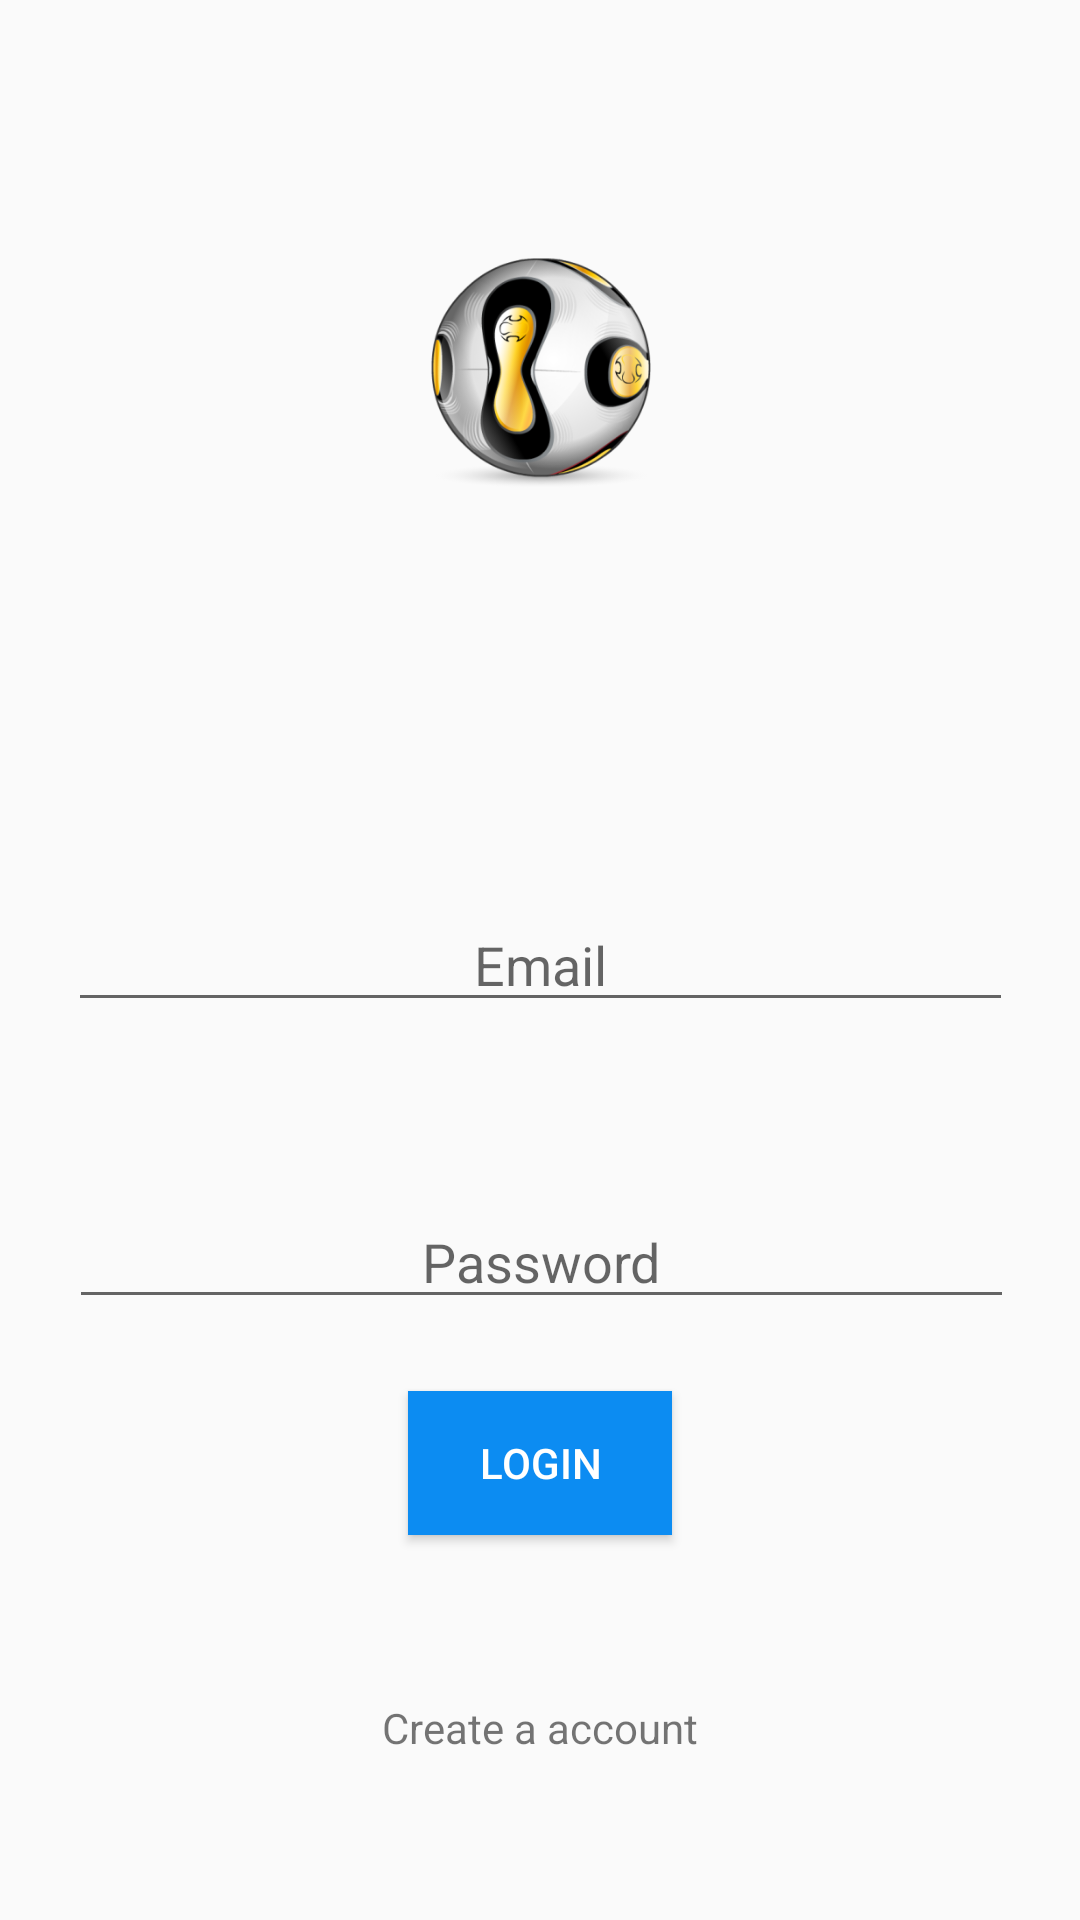

Icon click points for this 1080w x 1920h phone screenshot, format (x=x, y=y):
soccer ball: (x=541, y=370)
